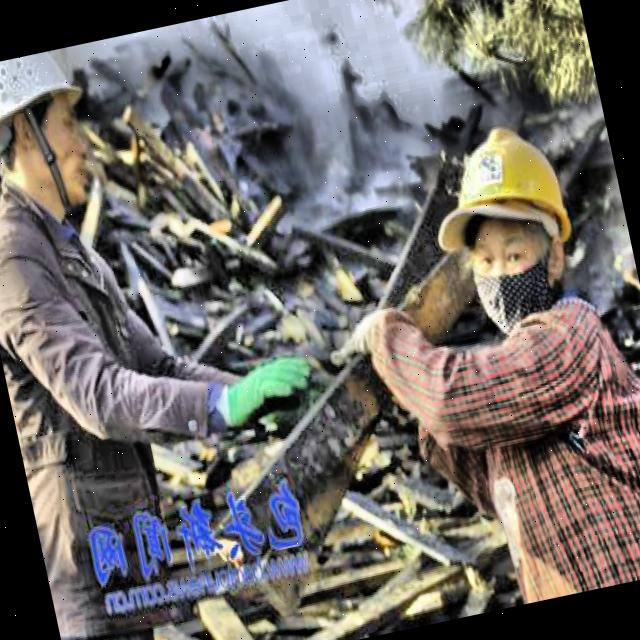helmet: (416, 98, 600, 326), (0, 43, 115, 234)
